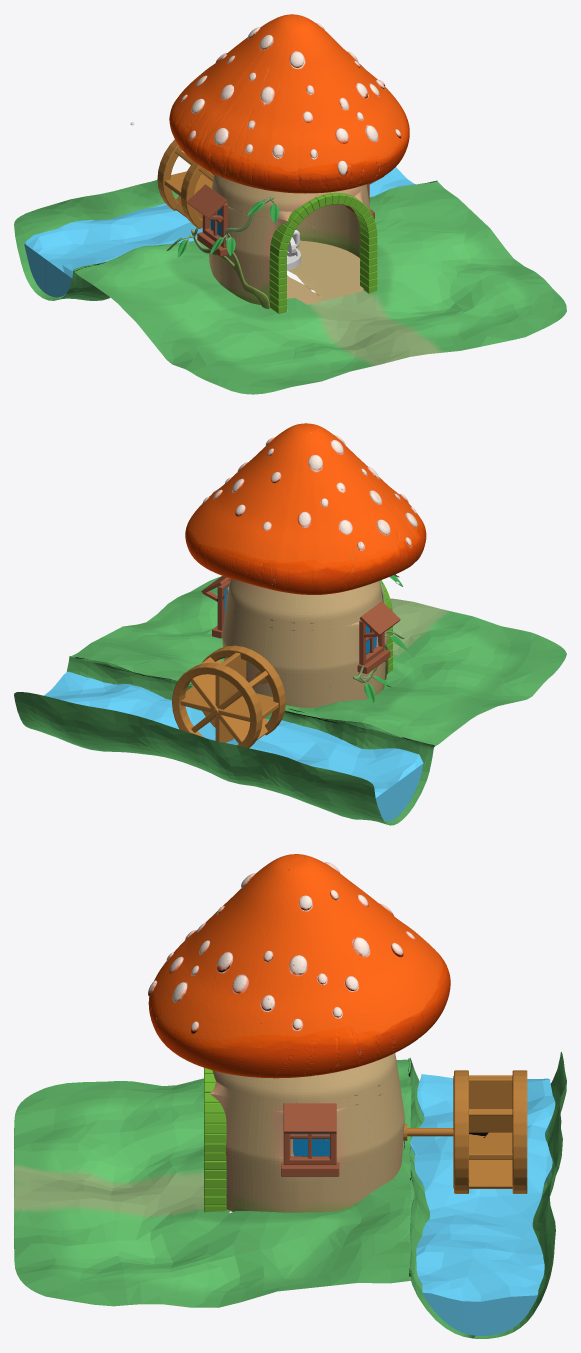
File: 1761293688083-MolinoAgua.glb
3 renders of one model, top to bottom at view 1: azimuth 30°, elevation 25°; view 2: azimuth 150°, elevation 25°; view 3: azimuth 270°, elevation 25°, orthographic. The views are drawn at different scales.
Parts seen in each view (by area): view 1: Suelo, Sombrero Cabaña Hongo, Cylinder.018, Plane, Cube, Circle.008, Cylinder.001, PlantaMolino; view 2: Suelo, Sombrero Cabaña Hongo, Cylinder.018, Plane, Circle.008, Cylinder.001, PlantaMolino, Cylinder.020; view 3: Suelo, Sombrero Cabaña Hongo, Plane, Cylinder.018, Circle.008, Cylinder.020, Cube.
Part boxes in pixels (x1,y1,x2,y2): Suelo: (14,180,566,394); Sombrero Cabaña Hongo: (169,14,409,193); Cylinder.018: (209,174,370,304); Plane: (24,167,415,297); Cube: (269,192,377,313); Circle.008: (157,139,213,228); Cylinder.001: (187,184,228,256); PlantaMolino: (166,197,279,308); Suelo: (14,576,566,825); Sombrero Cabaña Hongo: (185,423,426,594); Cylinder.018: (222,579,387,707); Plane: (44,671,423,821); Circle.008: (172,645,285,748); Cylinder.001: (357,601,400,673); PlantaMolino: (353,574,406,702); Cylinder.020: (201,576,230,638); Suelo: (14,1052,566,1338); Sombrero Cabaña Hongo: (148,854,450,1078); Plane: (410,1074,555,1335); Cylinder.018: (210,1053,404,1212); Circle.008: (403,1070,527,1193); Cylinder.020: (281,1103,339,1176); Cube: (204,1068,226,1212).
Size of the model in its own units: 4.68 by 3.72 by 4.91.
8 materials, 8 textured.
